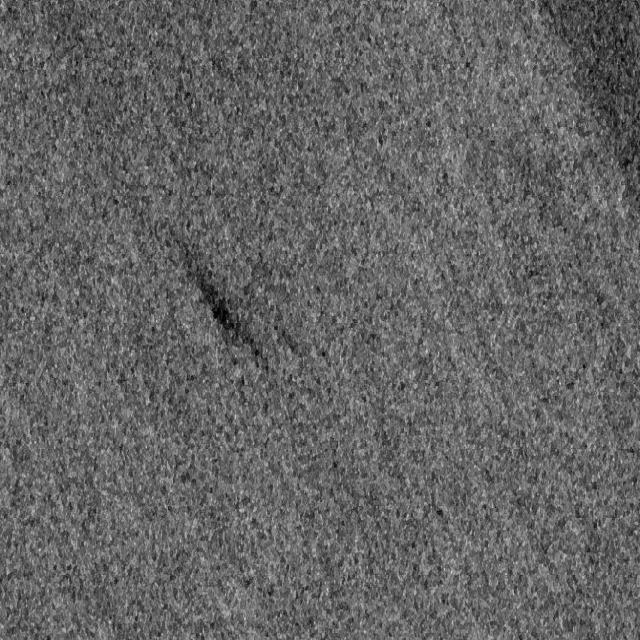oil-spill: (168, 229, 273, 385)
